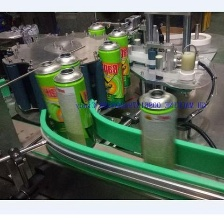aerosol_cans: (52, 65, 100, 150), (137, 86, 180, 176), (31, 57, 73, 146), (52, 50, 86, 140), (95, 36, 128, 111), (104, 26, 132, 103), (86, 19, 107, 79)
